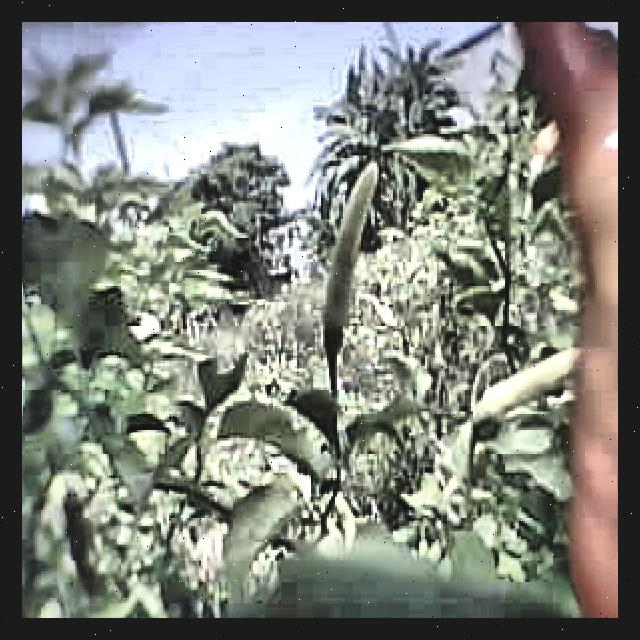Cabai: (569, 22, 618, 618)
